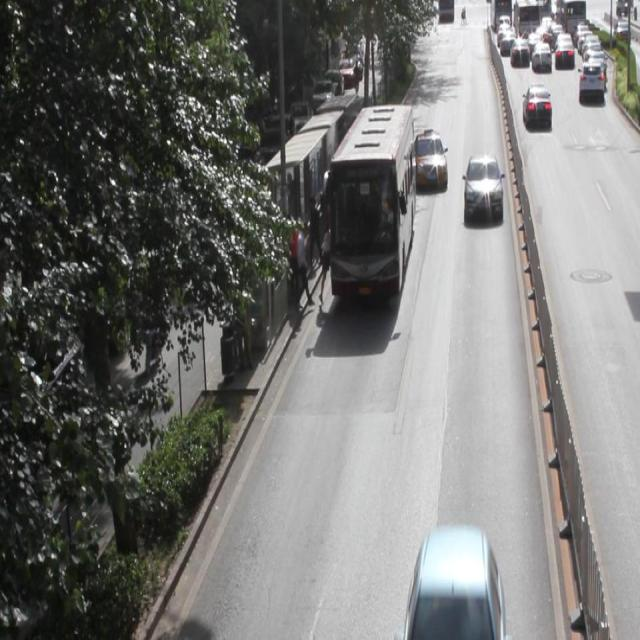car: (403, 524, 502, 640), (463, 152, 502, 218), (412, 132, 446, 186), (522, 84, 551, 126)
van: (328, 106, 415, 298)
